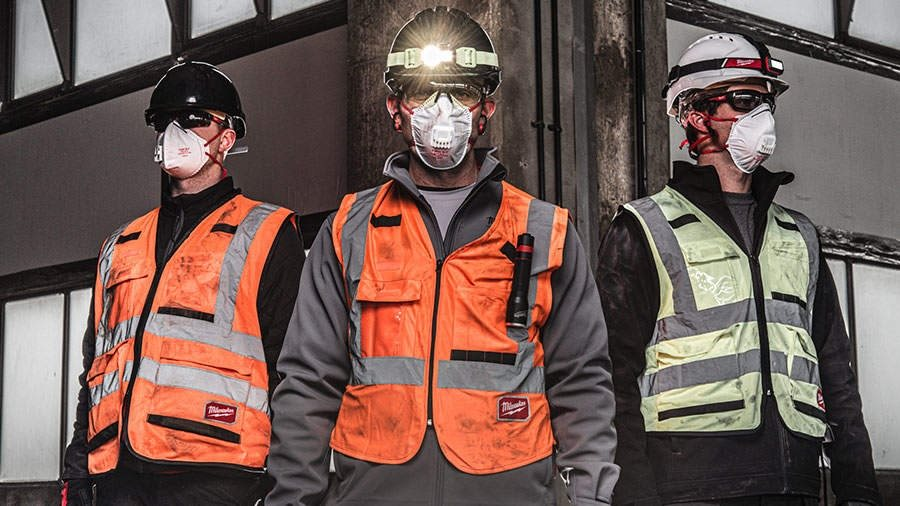with_mask: (397, 71, 494, 175), (697, 85, 795, 187), (147, 110, 225, 182)
